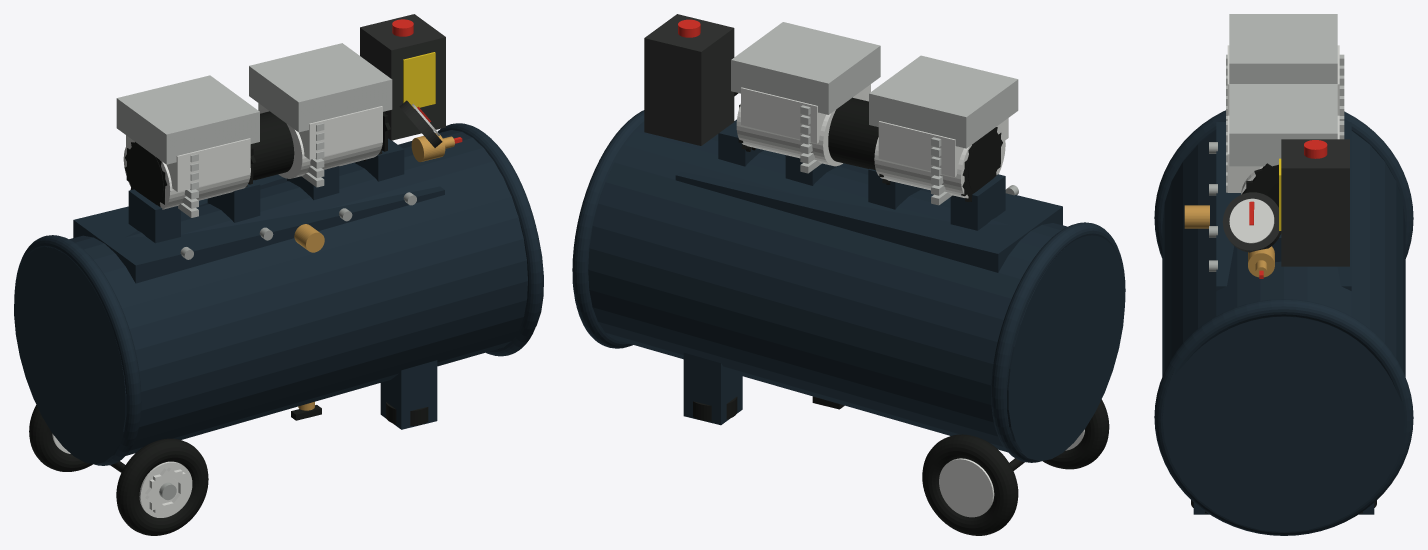
Rendered from mesin kompresor besar izumi.glb.
The picture shows the model from 3 angles, left to right: view 1: azimuth 30°, elevation 25°; view 2: azimuth 150°, elevation 25°; view 3: azimuth 270°, elevation 25°; orthographic projection. The views are drawn at different scales.
Parts seen in each view (by area): view 1: Silinder, TOP MOTOR PLATFORM, RUBBER WHEEL, MOTOR HEAD.002, MOTOR HEAD.001, PRESSURE SWITCH, RIGHT TANK RING.001, RIGHT TANK RING, MOTOR CORE.001, MOTOR HOUSING.002, MOTOR HOUSING.001, LEFT FRONT LEG (+10 smaller); view 2: Silinder, TOP MOTOR PLATFORM, PRESSURE SWITCH, RUBBER WHEEL, MOTOR HEAD.002, MOTOR HEAD.001, RIGHT TANK RING.001, MOTOR CORE.001, RIGHT TANK RING, RIGHT FRONT LEG, MOTOR HOUSING.002, MOTOR HOUSING.001 (+6 smaller); view 3: Silinder, PRESSURE SWITCH, RIGHT TANK RING, MOTOR HEAD.002, MOTOR HEAD.001, RIGHT TANK RING.001, PRESSURE GAUGE, TOP MOTOR PLATFORM, MOTOR HOUSING.001, FAN BLADE.019, BRASS HOSE FITTING.001, REGULATOR BODY (+2 smaller).
Part boxes in pixels (x1,y1,x2,y2): Silinder: [14, 130, 543, 464]; TOP MOTOR PLATFORM: [73, 174, 444, 283]; RUBBER WHEEL: [29, 405, 208, 535]; MOTOR HEAD.002: [116, 75, 259, 164]; MOTOR HEAD.001: [249, 43, 392, 132]; PRESSURE SWITCH: [360, 14, 445, 140]; RIGHT TANK RING.001: [14, 235, 141, 465]; RIGHT TANK RING: [437, 123, 542, 356]; MOTOR CORE.001: [130, 111, 294, 204]; MOTOR HOUSING.002: [126, 135, 250, 191]; MOTOR HOUSING.001: [258, 103, 382, 159]; LEFT FRONT LEG: [380, 360, 437, 429]; Silinder: [572, 123, 1124, 461]; TOP MOTOR PLATFORM: [675, 165, 1062, 272]; PRESSURE SWITCH: [644, 14, 734, 145]; RUBBER WHEEL: [922, 399, 1109, 535]; MOTOR HEAD.002: [869, 55, 1018, 148]; MOTOR HEAD.001: [731, 22, 880, 114]; RIGHT TANK RING.001: [991, 222, 1125, 462]; MOTOR CORE.001: [828, 97, 1000, 192]; RIGHT TANK RING: [572, 110, 644, 348]; RIGHT FRONT LEG: [683, 352, 742, 425]; MOTOR HOUSING.002: [878, 118, 1008, 177]; MOTOR HOUSING.001: [741, 84, 870, 143]; Silinder: [1162, 130, 1405, 532]; PRESSURE SWITCH: [1281, 139, 1349, 266]; RIGHT TANK RING: [1154, 299, 1413, 535]; MOTOR HEAD.002: [1229, 14, 1337, 83]; MOTOR HEAD.001: [1229, 84, 1337, 166]; RIGHT TANK RING.001: [1154, 110, 1413, 258]; PRESSURE GAUGE: [1222, 192, 1281, 252]; TOP MOTOR PLATFORM: [1216, 122, 1351, 290]; MOTOR HOUSING.001: [1227, 115, 1339, 192]; FAN BLADE.019: [1242, 163, 1278, 194]; BRASS HOSE FITTING.001: [1184, 205, 1209, 228]; REGULATOR BODY: [1248, 246, 1274, 277].
Size of the model in its own units: 5.93 by 5.24 by 2.87.
